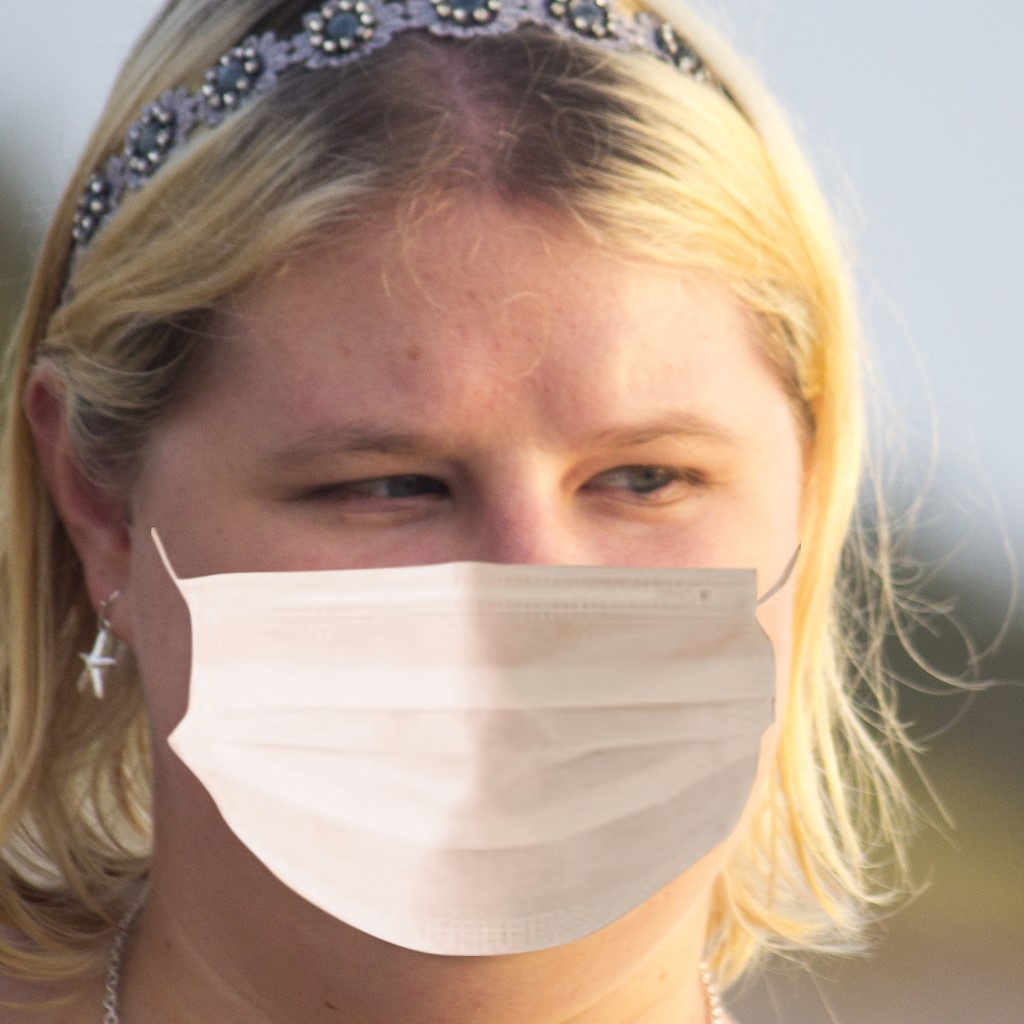con_mascara: (106, 148, 801, 966)
